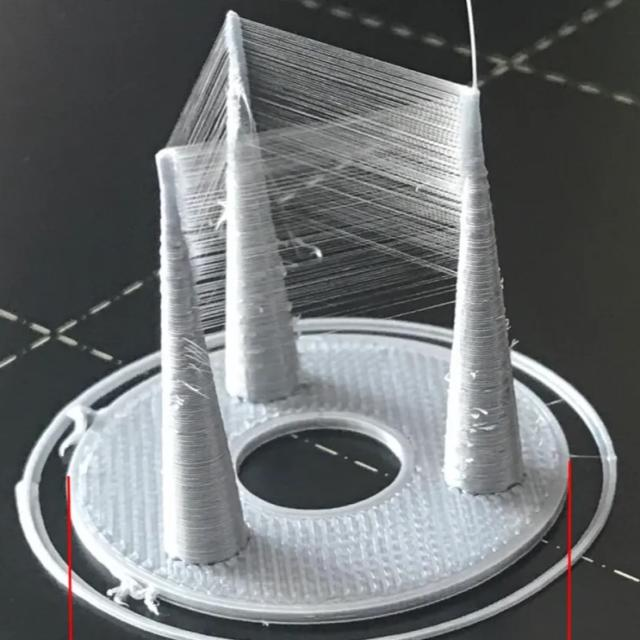Stringing: (138, 26, 514, 364)
